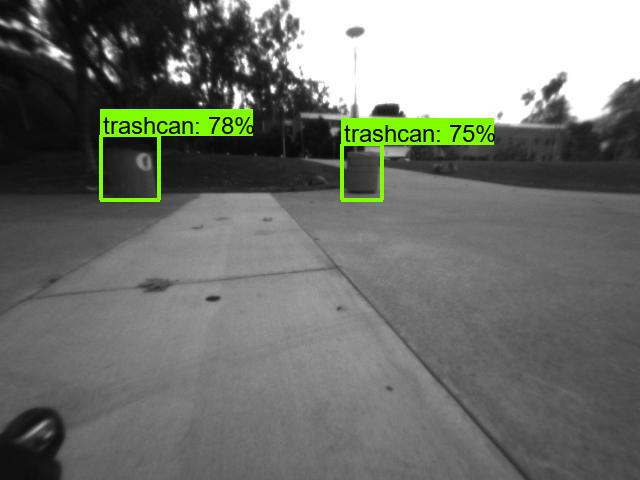trashcan: (112, 138, 160, 201), (345, 152, 383, 194)
